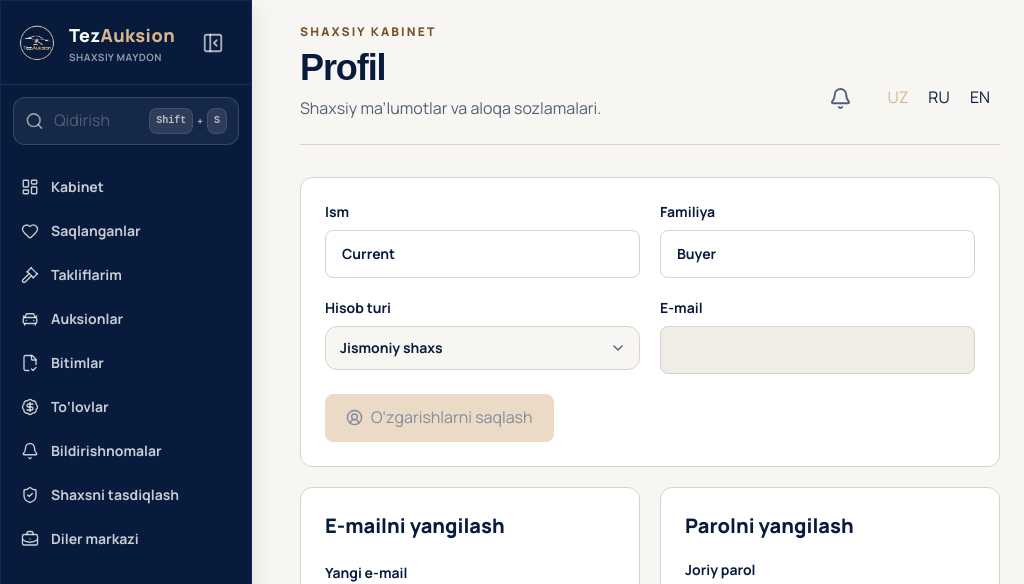
it: CabinetRouter access, routes, and production integrity › updates the authenticated user through the connected profile mutation
This screenshot has width=1024, height=584.
Replace the text in the field labelled "Ism" with "Updated": (482, 254) [325,230,640,278]
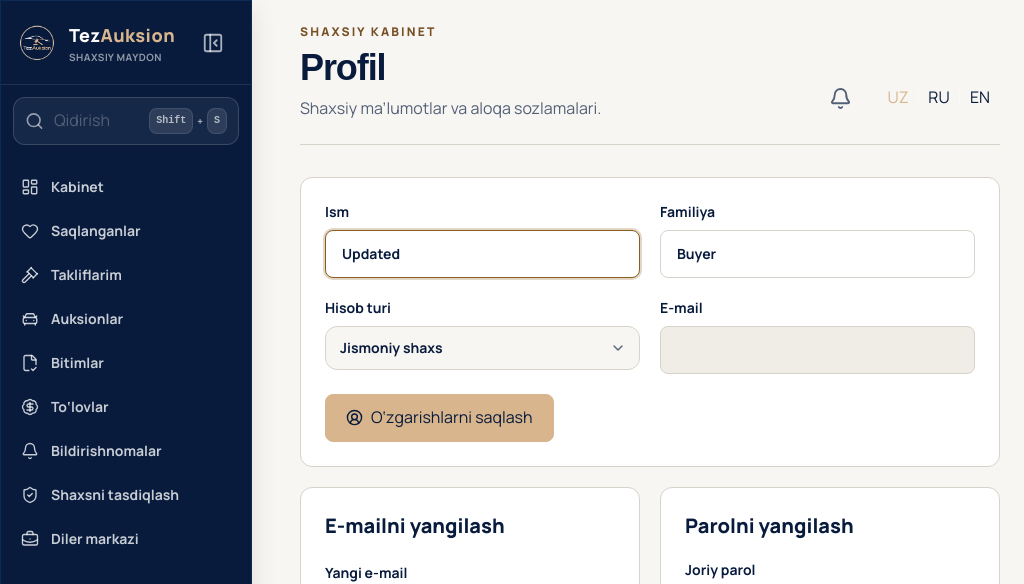
Click the button "O‘zgarishlarni saqlash": (439, 418) [325,394,554,442]
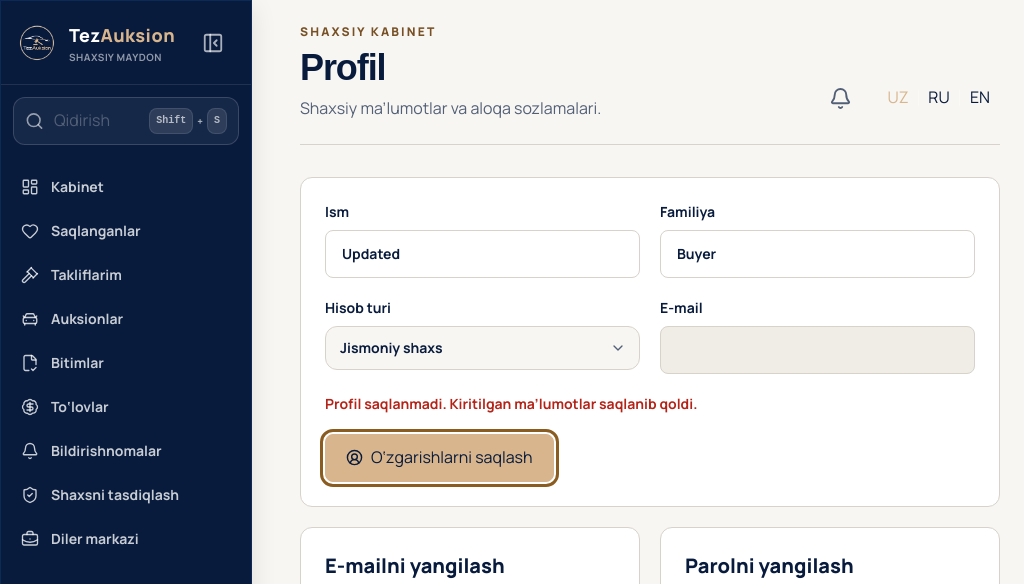
Expected: the text "profil ma’lumotlari saqlandi" is not shown
Result: the message shows "Profil saqlanmadi" at [325,394,697,413]
Click the button "O‘zgarishlarni saqlash": (439, 458) [325,434,554,482]
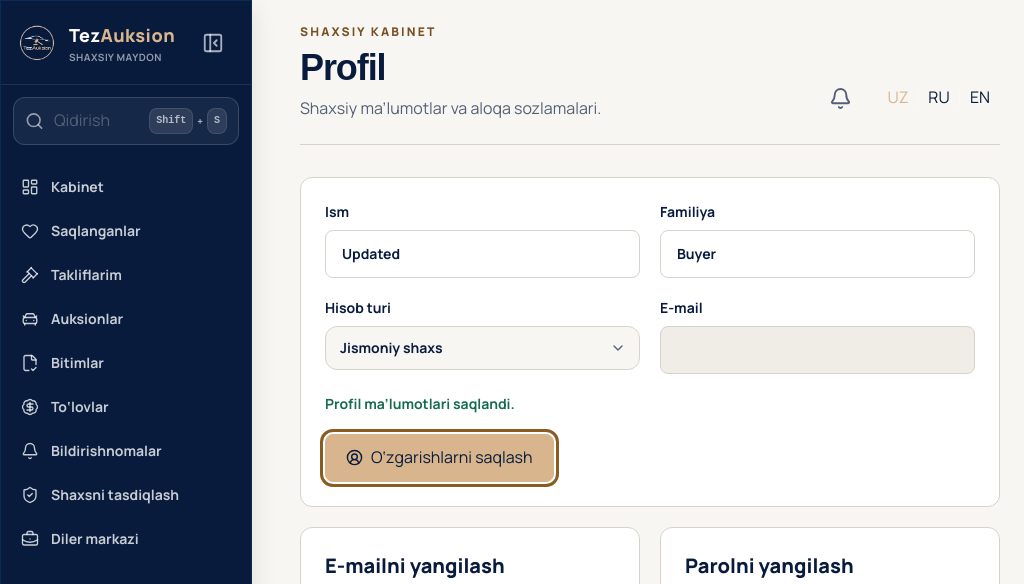
Result: the message shows "Profil ma’lumotlari saqlandi" at [325,394,515,413]
